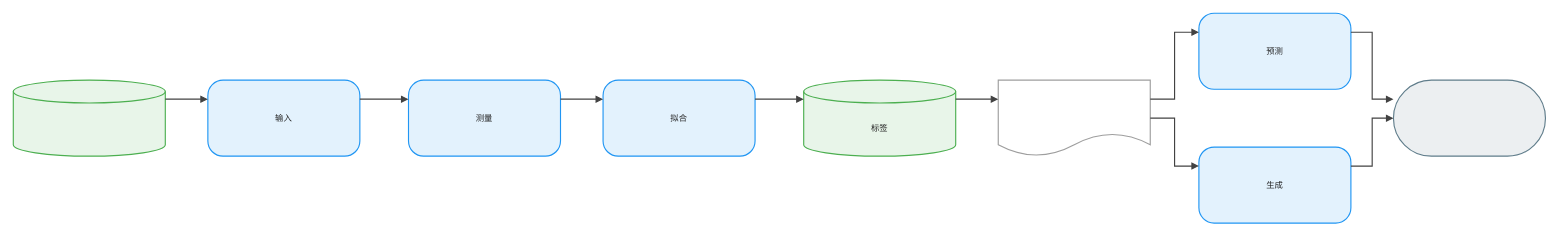
Some shapes in this 1560 by 237 pixel diagram are drawn without their labels. Here are the shapes that lost their labels. From the top down, the centre of each, then its label:
At point 89,117: "代码".
At point 1073,117: "测试集".
At point 1469,117: "指标".
